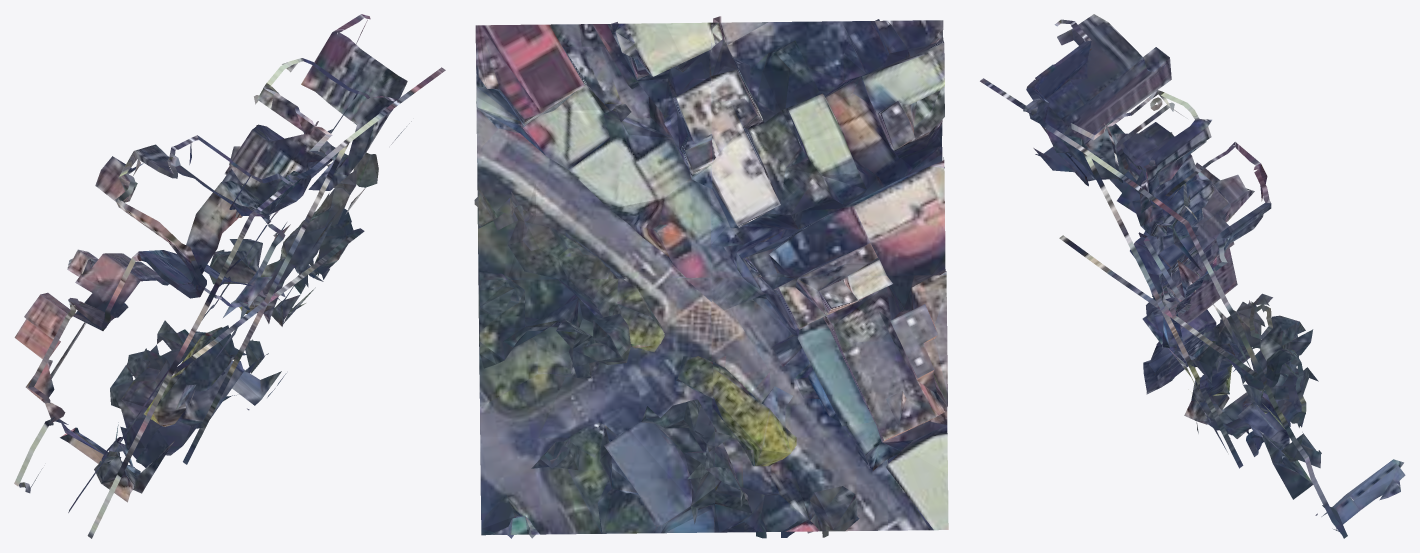
3 renders of one model, left to right at view 1: azimuth 30°, elevation 25°; view 2: azimuth 150°, elevation 25°; view 3: azimuth 270°, elevation 25°, orthographic. The views are drawn at different scales.
Bounding box in the file's own units: 84.15 × 77.77 × 74.67.
Materials: 2 (2 with a texture image).
